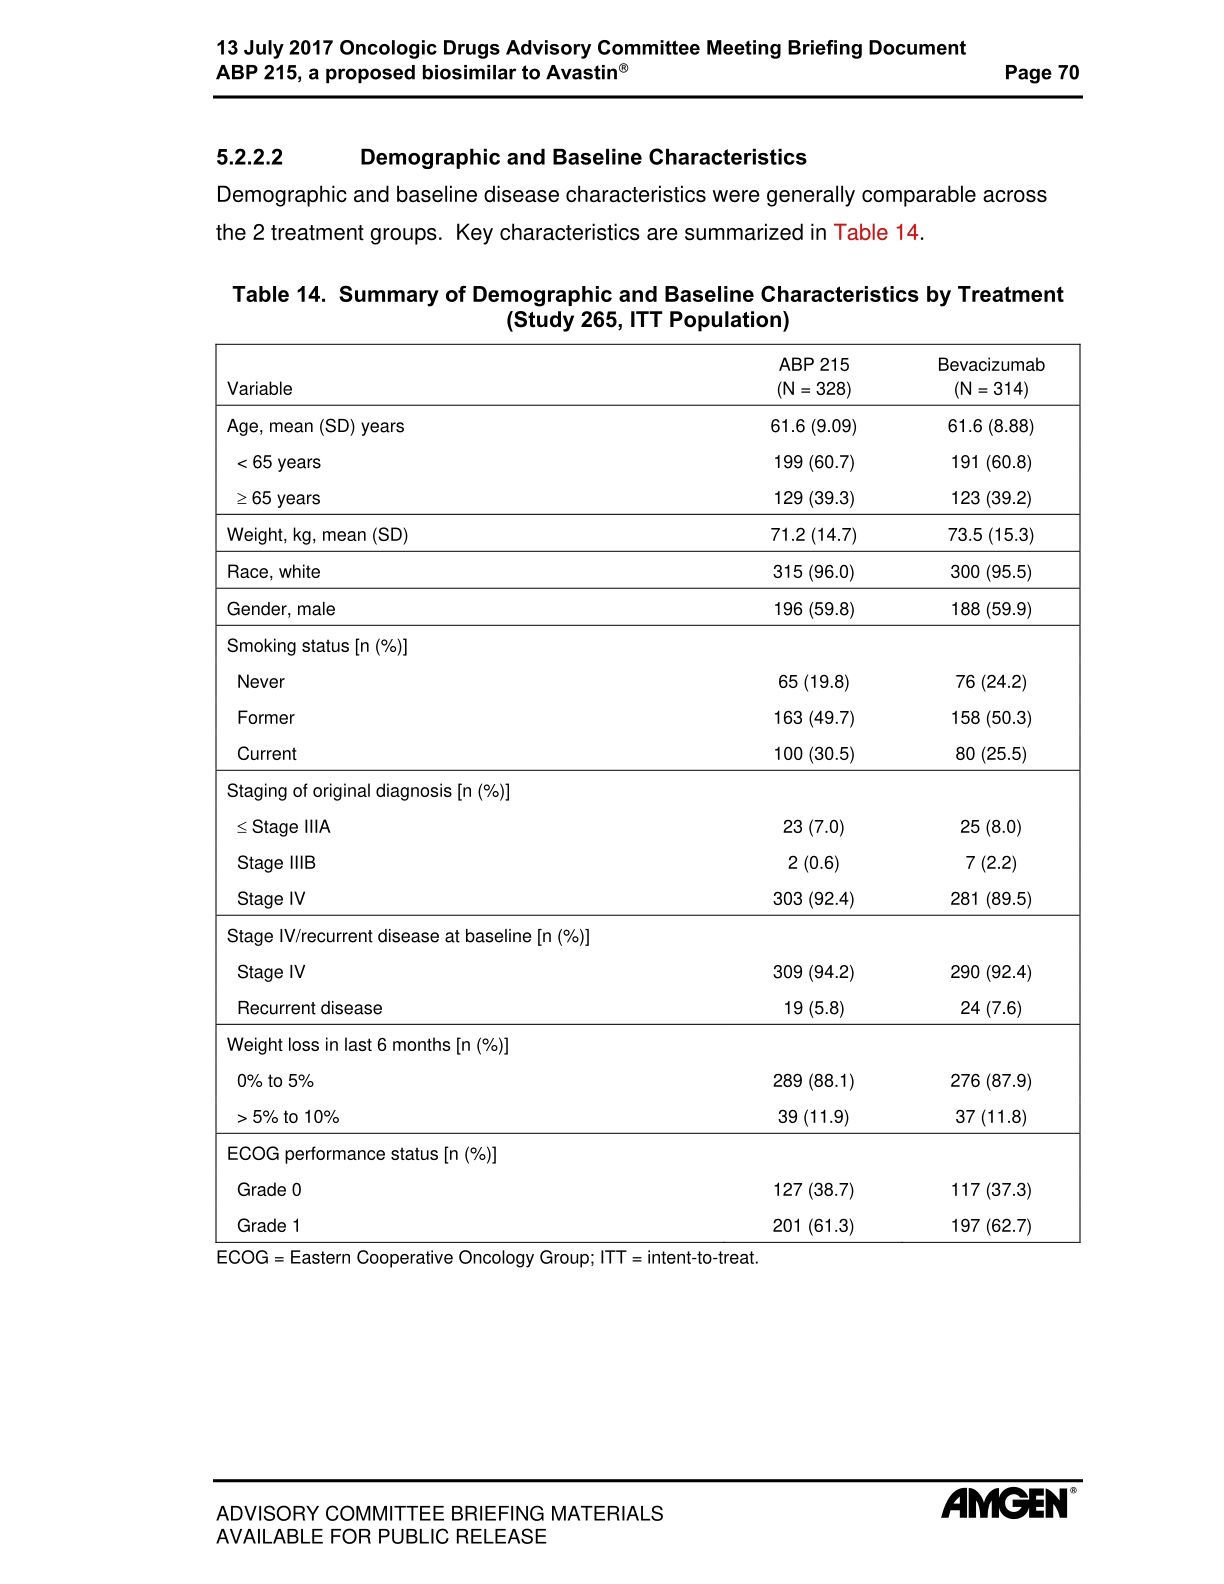partial_lined_merged_cells: (213, 342, 1083, 1245)
